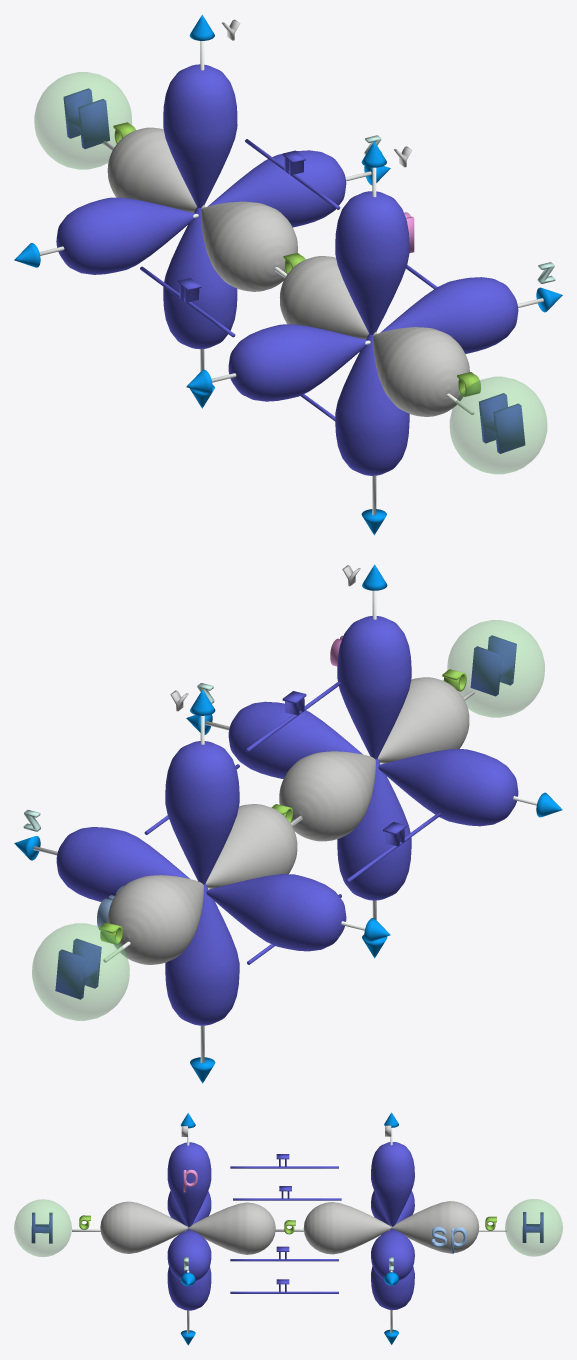
Rendered from ethyne.glb.
3 views of the same model, one above another, from view 1: azimuth 30°, elevation 25°; view 2: azimuth 150°, elevation 25°; view 3: azimuth 270°, elevation 25° (orthographic). The views are drawn at different scales.
Visible parts, largest first — view 1: pi1_p_lobe_19, pi1_p_lobe_09, H_atom_2, pi2_p_lobe_20, pi2_p_lobe_06, H_atom_1, sigma_CC_sp_lobe_C2, sp_lobe_CH_1, pi1_p_lobe_16, pi2_p_lobe_18, pi1_p_lobe_21, pi2_p_lobe_27 (+4 smaller); view 2: pi1_p_lobe_19, H_atom_1, pi1_p_lobe_09, pi2_p_lobe_20, pi2_p_lobe_06, H_atom_2, sigma_CC_sp_lobe_C1, sp_lobe_CH_2, pi1_p_lobe_21, pi2_p_lobe_27, pi2_p_lobe_18, pi1_p_lobe_16 (+4 smaller); view 3: sp_lobe_CH_1, sigma_CC_sp_lobe_C2, sigma_CC_sp_lobe_C1, sp_lobe_CH_2, pi1_p_lobe_19, H_atom_1, H_atom_2, pi1_p_lobe_09, pi2_p_lobe_18, pi2_p_lobe_27, pi1_p_lobe_16, pi1_p_lobe_21 (+9 smaller).
Boxes of the visible parts, box(x1,y1,x2,y2) form: pi1_p_lobe_19: box(163, 64, 237, 208); pi1_p_lobe_09: box(335, 191, 409, 334); H_atom_2: box(450, 377, 546, 473); pi2_p_lobe_20: box(56, 197, 195, 274); pi2_p_lobe_06: box(228, 324, 367, 401); H_atom_1: box(34, 72, 131, 169); sigma_CC_sp_lobe_C2: box(201, 201, 297, 291); sp_lobe_CH_1: box(373, 327, 469, 416); pi1_p_lobe_16: box(335, 334, 409, 475); pi2_p_lobe_18: box(380, 277, 518, 353); pi1_p_lobe_21: box(163, 207, 237, 349); pi2_p_lobe_27: box(208, 150, 346, 227); pi1_p_lobe_19: box(165, 741, 239, 884); H_atom_1: box(32, 923, 129, 1020); pi1_p_lobe_09: box(337, 616, 411, 759); pi2_p_lobe_20: box(206, 874, 346, 951); pi2_p_lobe_06: box(378, 749, 518, 826); H_atom_2: box(447, 620, 544, 717); sigma_CC_sp_lobe_C1: box(279, 751, 375, 841); sp_lobe_CH_2: box(107, 875, 203, 964); pi1_p_lobe_21: box(165, 883, 239, 1025); pi2_p_lobe_27: box(56, 827, 189, 901); pi2_p_lobe_18: box(228, 701, 362, 778); pi1_p_lobe_16: box(337, 758, 411, 900); sp_lobe_CH_1: box(100, 1201, 187, 1253); sigma_CC_sp_lobe_C2: box(303, 1202, 391, 1254); sigma_CC_sp_lobe_C1: box(188, 1202, 275, 1254); sp_lobe_CH_2: box(391, 1201, 479, 1253); pi1_p_lobe_19: box(371, 1142, 414, 1226); H_atom_1: box(505, 1199, 562, 1256); H_atom_2: box(14, 1199, 71, 1256); pi1_p_lobe_09: box(167, 1142, 211, 1227); pi2_p_lobe_18: box(167, 1229, 211, 1280); pi2_p_lobe_27: box(371, 1229, 414, 1280); pi1_p_lobe_16: box(167, 1227, 211, 1310); pi1_p_lobe_21: box(371, 1226, 414, 1310).
Size of the model in its own units: 0.9375 by 0.9394 by 2.
